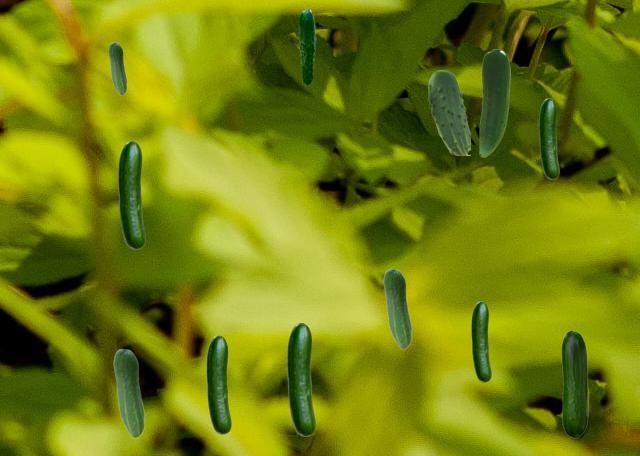cucumber: (428, 70, 469, 154), (479, 49, 509, 156), (287, 323, 314, 435), (561, 330, 587, 437), (118, 141, 144, 248), (113, 348, 144, 437), (206, 335, 230, 433), (383, 268, 411, 348), (539, 98, 558, 178), (471, 301, 490, 381), (298, 9, 315, 84), (108, 42, 126, 94)
